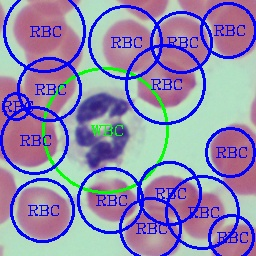RBC: (7, 176, 78, 247), (148, 8, 217, 78), (128, 50, 200, 115), (92, 12, 160, 80), (0, 103, 62, 174), (21, 19, 89, 83), (25, 49, 83, 124), (133, 165, 204, 224), (79, 170, 143, 230), (116, 202, 188, 254), (8, 0, 72, 57), (173, 187, 232, 244), (202, 0, 254, 64), (202, 115, 254, 178), (215, 136, 255, 201)
WBC: (58, 84, 147, 178)
